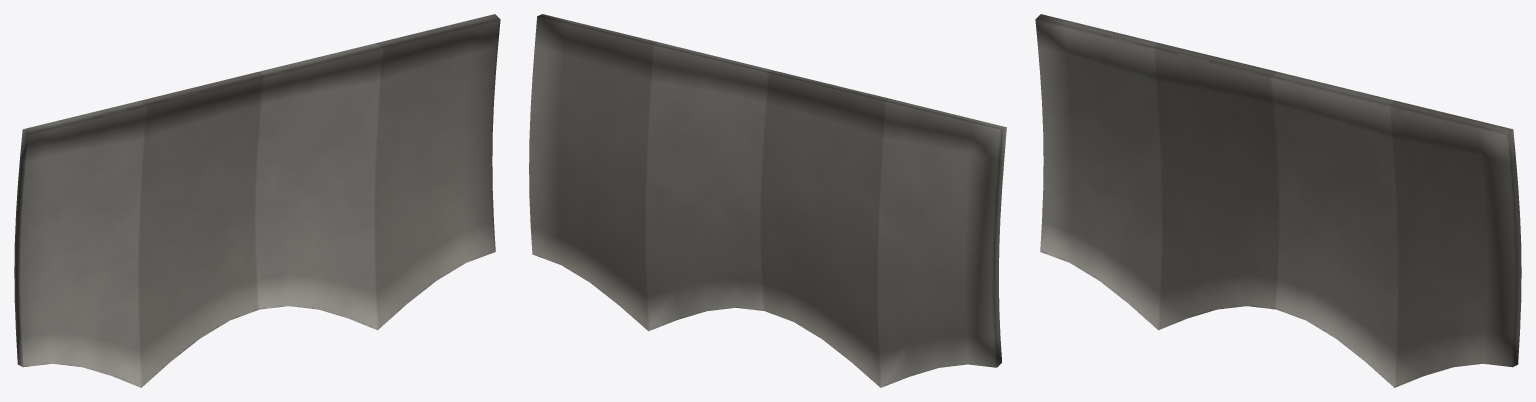
The model's file is drape_pale.obj.
The picture shows the model from 3 angles, left to right: view 1: azimuth 30°, elevation 25°; view 2: azimuth 150°, elevation 25°; view 3: azimuth 330°, elevation 25°; orthographic projection.
Parts seen in each view (by area): view 1: part0, part1; view 2: part0, part1; view 3: part1, part0.
Part boxes in pixels (<box>): part0: <box>14,43,382,387</box>; part1: <box>138,14,500,387</box>; part0: <box>645,42,1006,387</box>; part1: <box>529,14,890,387</box>; part1: <box>1153,43,1521,387</box>; part0: <box>1035,14,1397,387</box>.
Bounding box in the file's own units: 1 × 0.5826 × 0.0499.
